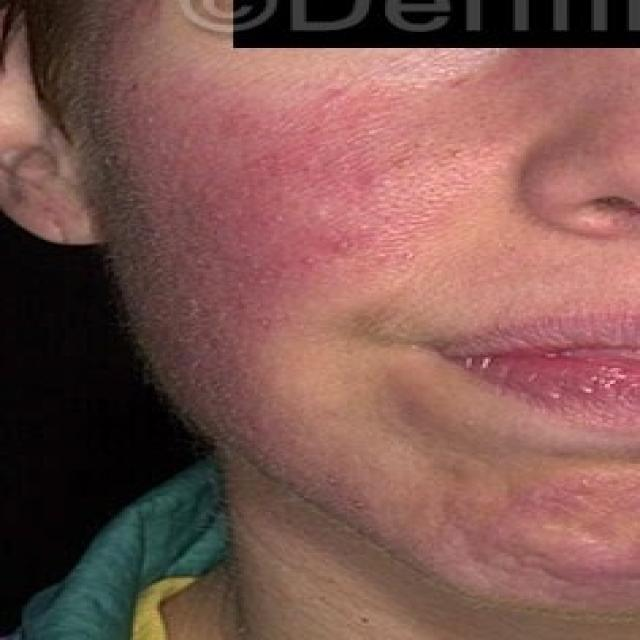Rosacea: (197, 118, 396, 285)
